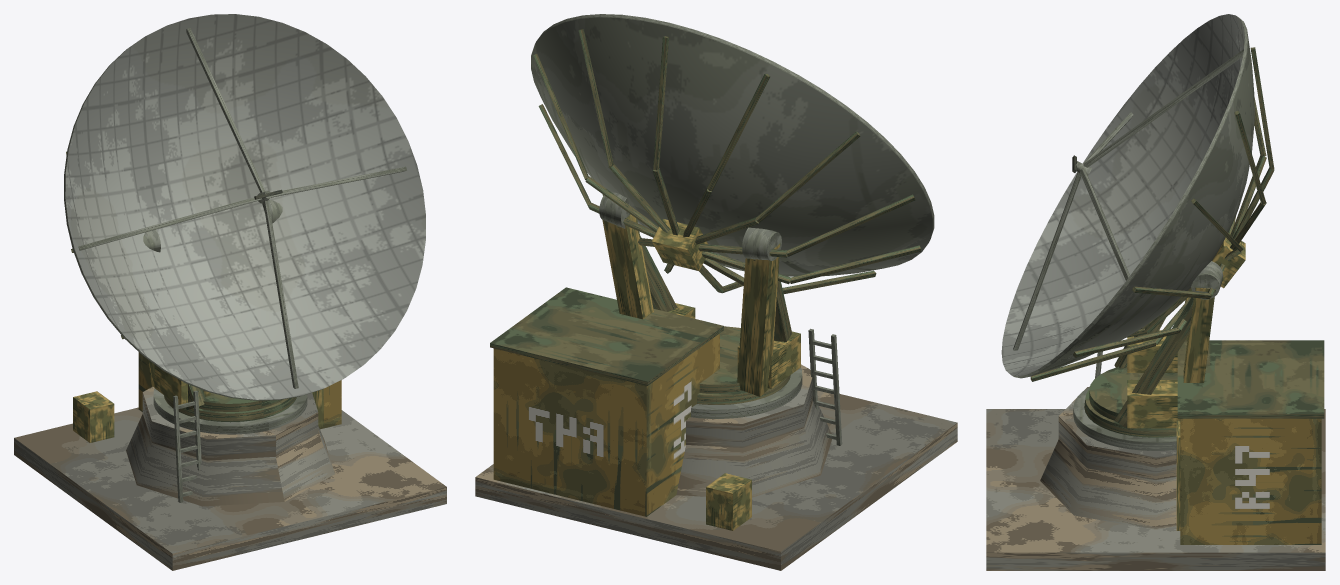
Rendered from wuerzburg-riese-own.glb.
3 views of the same model, side by side, from view 1: azimuth 30°, elevation 25°; view 2: azimuth 150°, elevation 25°; view 3: azimuth 270°, elevation 25° (orthographic). The views are drawn at different scales.
Parts seen in each view (by area): view 1: ReflectorShell, FoundationAndRace, ControlHutAndLadder, ReflectorBracing, SlewYoke; view 2: ReflectorShell, ControlHutAndLadder, FoundationAndRace, SlewYoke, ReflectorBracing; view 3: ReflectorShell, FoundationAndRace, ControlHutAndLadder, ReflectorBracing, SlewYoke.
Part boxes in pixels (bbox=[...]): ReflectorShell: bbox=[64, 14, 425, 400]; FoundationAndRace: bbox=[14, 386, 446, 570]; ControlHutAndLadder: bbox=[73, 352, 341, 502]; ReflectorBracing: bbox=[66, 28, 406, 391]; SlewYoke: bbox=[143, 200, 282, 411]; ReflectorShell: bbox=[531, 14, 934, 276]; ControlHutAndLadder: bbox=[490, 287, 842, 530]; FoundationAndRace: bbox=[475, 364, 957, 570]; SlewYoke: bbox=[599, 191, 800, 396]; ReflectorBracing: bbox=[533, 29, 920, 293]; ReflectorShell: bbox=[1001, 14, 1254, 378]; FoundationAndRace: bbox=[986, 386, 1325, 570]; ControlHutAndLadder: bbox=[1095, 340, 1324, 544]; ReflectorBracing: bbox=[1013, 47, 1274, 381]; SlewYoke: bbox=[1089, 261, 1223, 429].
Size of what is drawn, in the model's own units: 7.5 by 9 by 6.
1 material, 1 textured.
